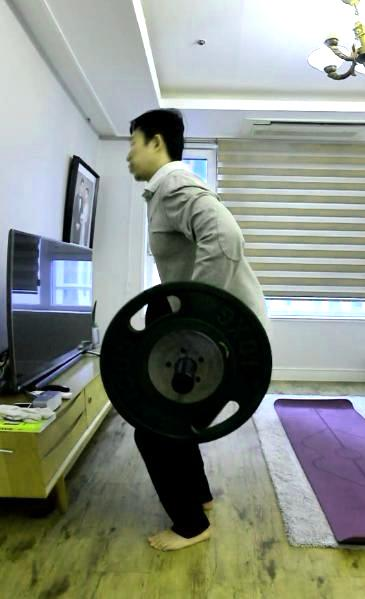Barbell: (167, 367, 200, 399)
